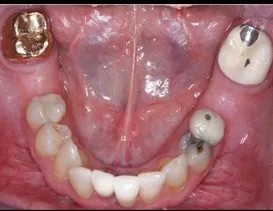LL1BC_decay: (178, 131, 211, 170)
LL2BC_decay: (190, 110, 227, 145)
LLCI_healthy: (114, 173, 138, 208)
LLC_healthy: (158, 154, 189, 193)
LLLI_healthy: (138, 169, 166, 203)
LR1BC_decay: (32, 124, 72, 156)
LR2BC_healthy: (24, 90, 67, 128)
LRCI_healthy: (92, 169, 115, 200)
LRC_healthy: (51, 140, 84, 180)
LRLI_healthy: (70, 167, 91, 197)
